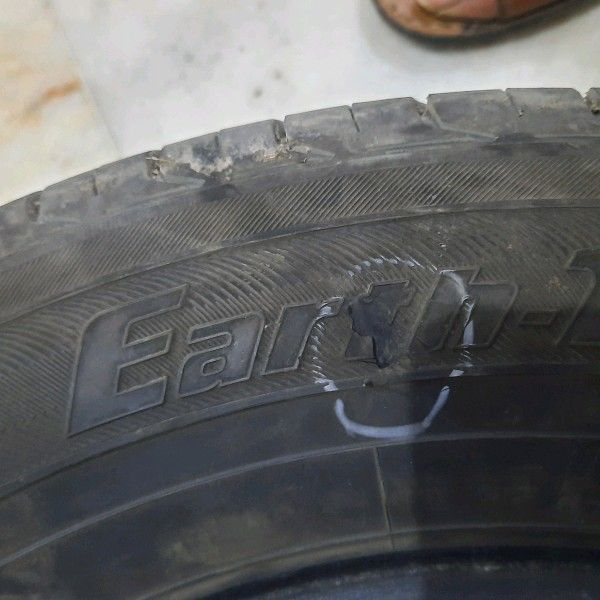CBU: (347, 287, 412, 374)
